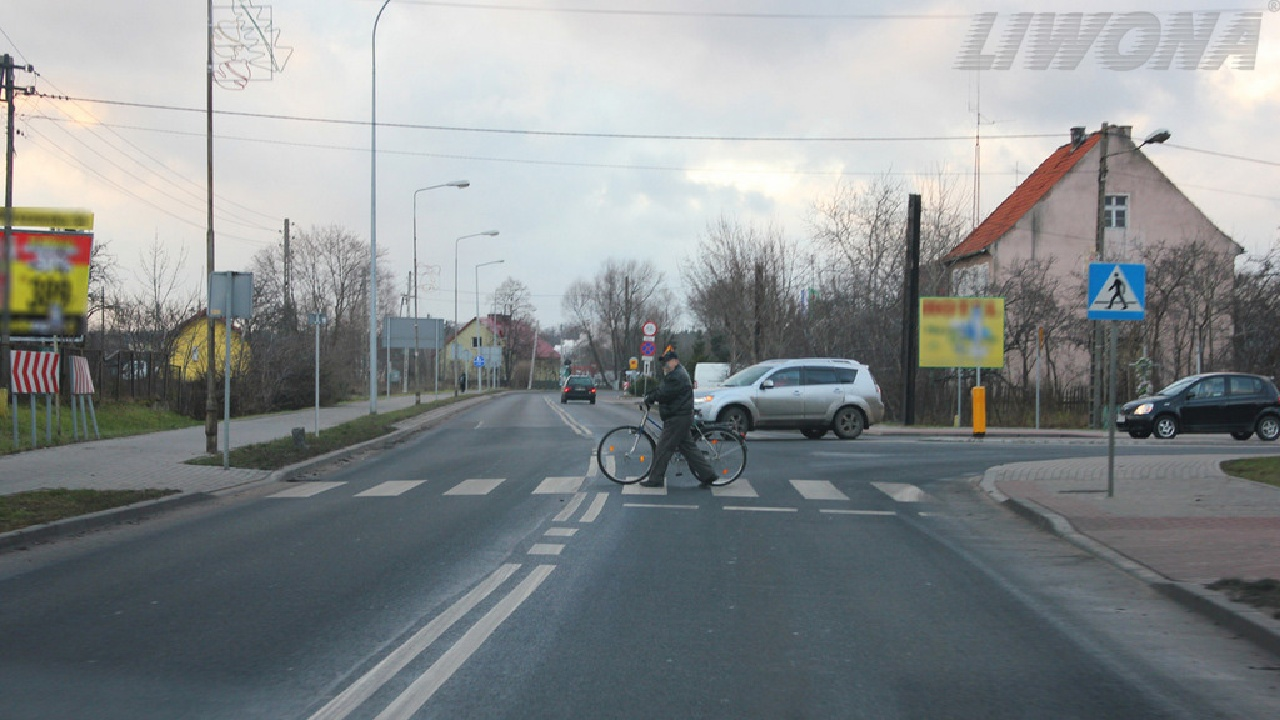D6: (1088, 262, 1146, 321)
